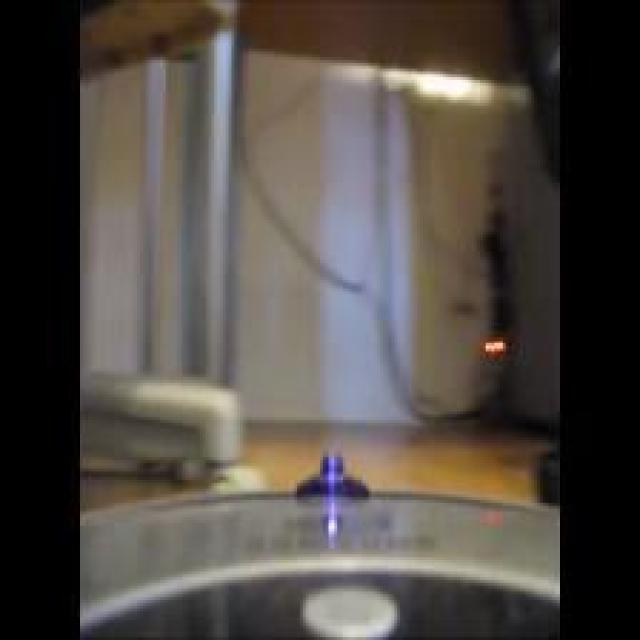other: (440, 310, 521, 368)
